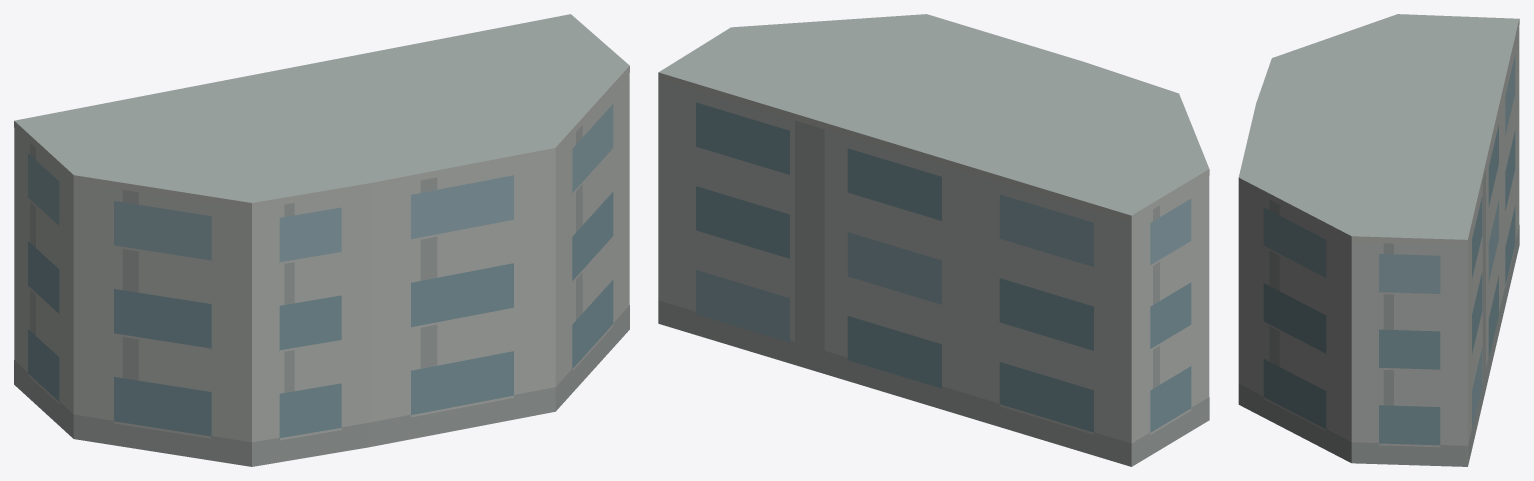
File: survey-upis-32528204.glb
3 views of the same model, side by side, from view 1: azimuth 30°, elevation 25°; view 2: azimuth 150°, elevation 25°; view 3: azimuth 270°, elevation 25° (orthographic). The views are drawn at different scales.
Visible parts, largest first — view 1: survey-upis-32528204.tmp; view 2: survey-upis-32528204.tmp; view 3: survey-upis-32528204.tmp.
Boxes of the visible parts, x1=… form: survey-upis-32528204.tmp: x1=14, y1=14, x2=629, y2=466; survey-upis-32528204.tmp: x1=658, y1=14, x2=1209, y2=466; survey-upis-32528204.tmp: x1=1238, y1=14, x2=1519, y2=466.
Bounding box in the file's own units: 19.53 × 9.15 × 10.26.
